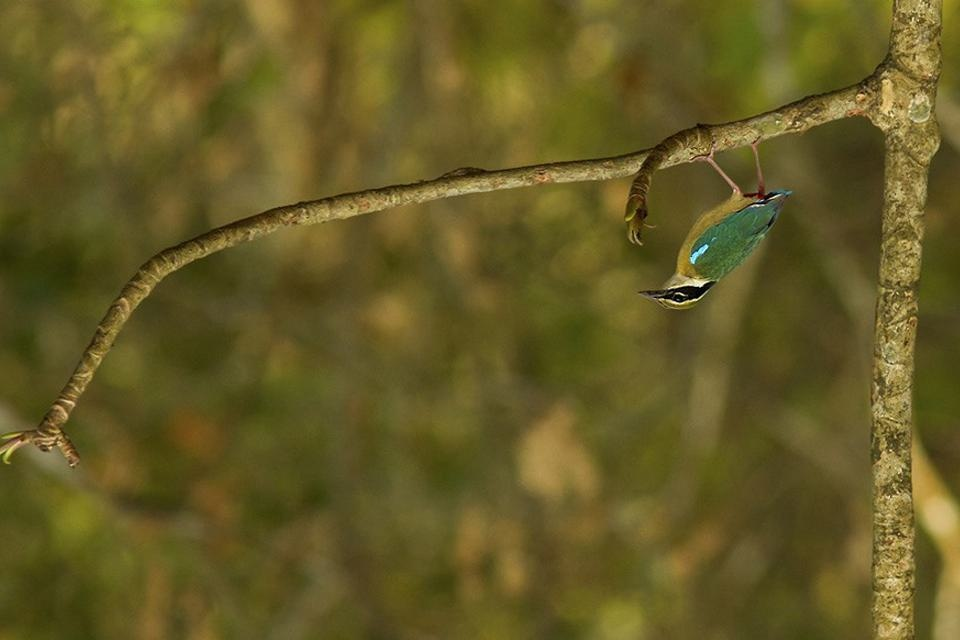pitta: (625, 140, 809, 316)
